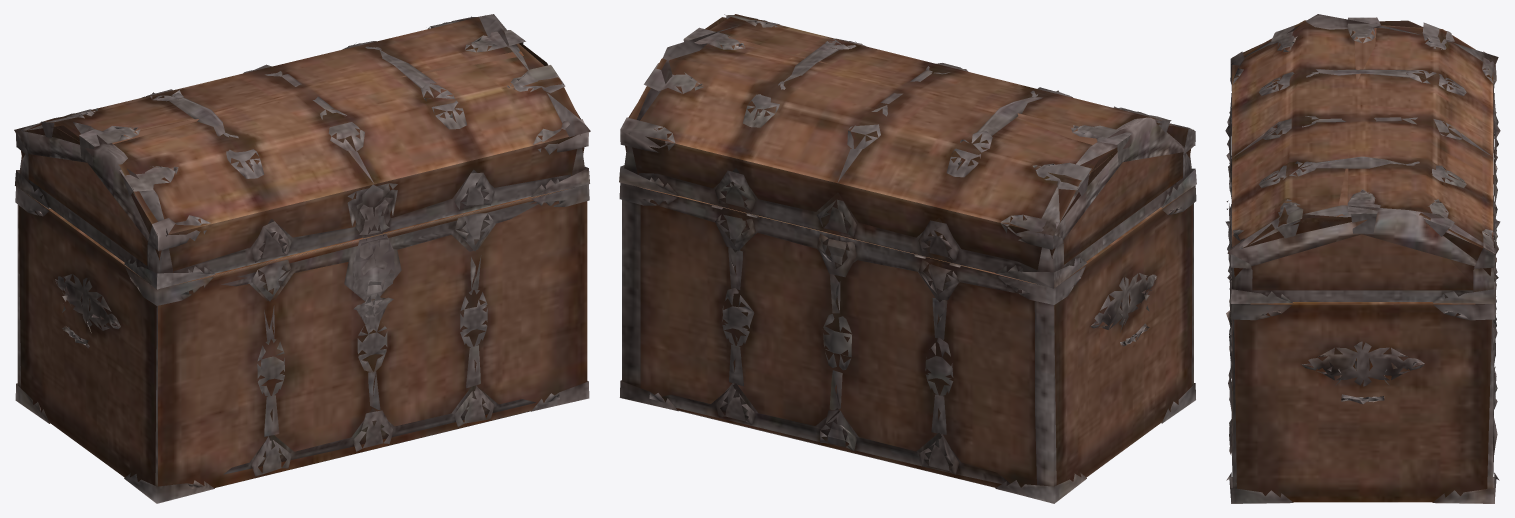
File: chest.glb
3 views of the same model, side by side, from view 1: azimuth 30°, elevation 25°; view 2: azimuth 150°, elevation 25°; view 3: azimuth 270°, elevation 25° (orthographic). The views are drawn at different scales.
Parts seen in each view (by area): view 1: treasure_chest_bottom, treasure_chest_lid, treasure_chest_lock; view 2: treasure_chest_bottom, treasure_chest_lid; view 3: treasure_chest_lid, treasure_chest_bottom.
Boxes of the visible parts, <box> form: treasure_chest_bottom: <box>15,184,589,503</box>; treasure_chest_lid: <box>14,14,590,289</box>; treasure_chest_lock: <box>352,233,394,317</box>; treasure_chest_bottom: <box>619,183,1196,503</box>; treasure_chest_lid: <box>619,14,1196,288</box>; treasure_chest_lid: <box>1225,14,1500,303</box>; treasure_chest_bottom: <box>1226,133,1499,503</box>.
Bounding box in the file's own units: 0.9481 × 0.6241 × 0.5287.
Materials: 1 (1 with a texture image).
